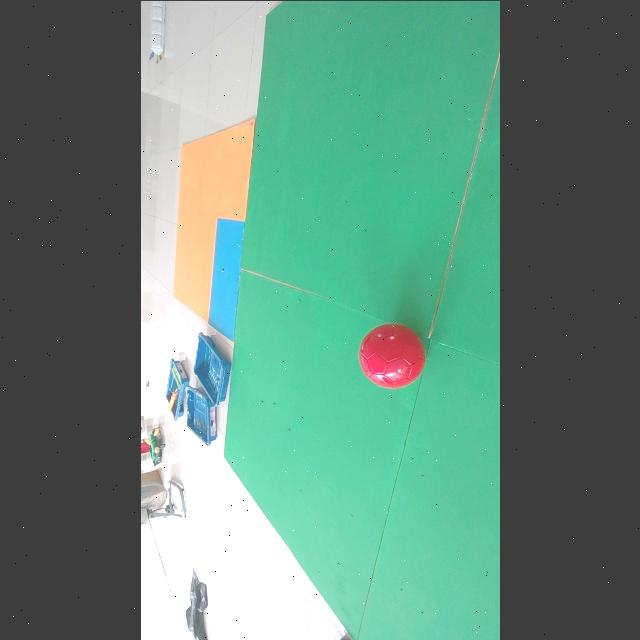R: (358, 323, 425, 388)
